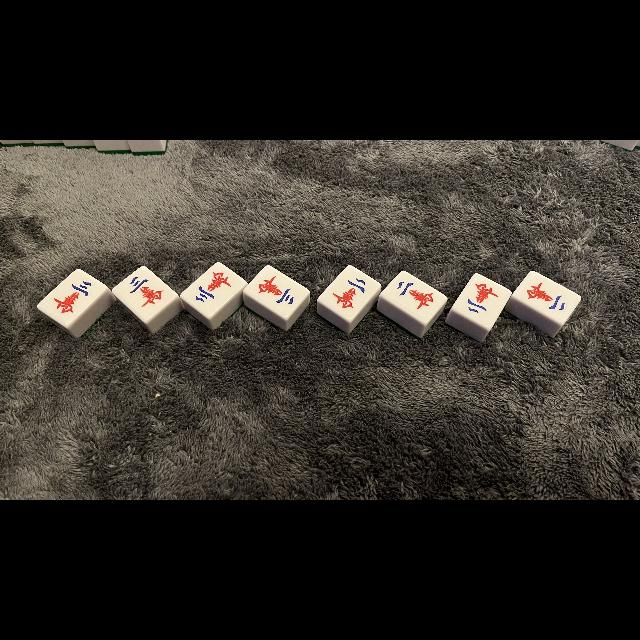c2: (389, 274, 443, 314), (521, 277, 575, 317), (328, 273, 372, 313), (461, 279, 501, 319)
c3: (50, 276, 98, 320), (248, 270, 300, 310), (120, 270, 168, 312), (190, 268, 236, 308)
